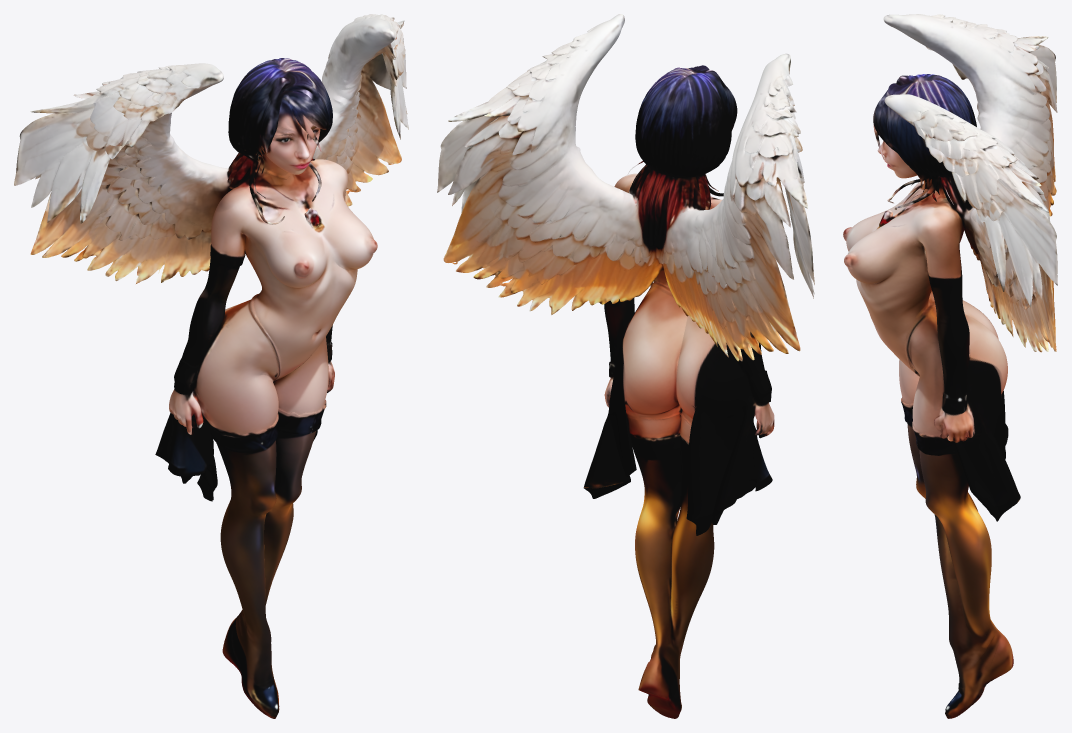
Rendered from alternative-female-reference.glb.
The picture shows the model from 3 angles, left to right: view 1: azimuth 30°, elevation 25°; view 2: azimuth 150°, elevation 25°; view 3: azimuth 270°, elevation 25°; orthographic projection. The views are drawn at different scales.
Visible parts, largest first — view 1: model_0; view 2: model_0; view 3: model_0.
Boxes of the visible parts, bbox=[...] form: model_0: bbox=[14, 14, 408, 718]; model_0: bbox=[437, 14, 814, 718]; model_0: bbox=[843, 14, 1057, 718].
Size of the model in its own units: 1.07 by 1.79 by 0.5266.
1 material, 1 textured.
